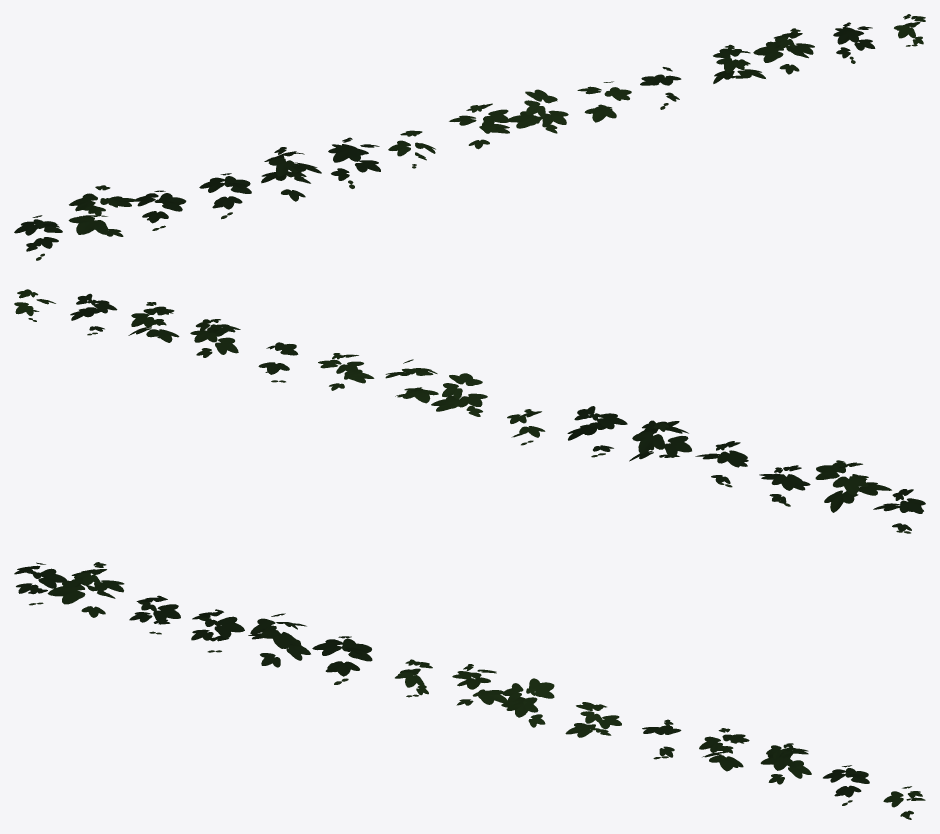
The model's file is ROW_03_SEG2_foliage.dae.
The picture shows the model from 3 angles, top to bottom: view 1: azimuth 30°, elevation 25°; view 2: azimuth 150°, elevation 25°; view 3: azimuth 330°, elevation 25°; orthographic projection.
Parts seen in each view (by area): view 1: ROW_03_SEG2_foliage; view 2: ROW_03_SEG2_foliage; view 3: ROW_03_SEG2_foliage.
Part boxes in pixels (x1,y1,x2,y2): ROW_03_SEG2_foliage: (14, 14, 925, 260); ROW_03_SEG2_foliage: (14, 289, 925, 533); ROW_03_SEG2_foliage: (14, 562, 925, 819).
Size of the model in its own units: 4.43 by 0.3115 by 0.2632.
